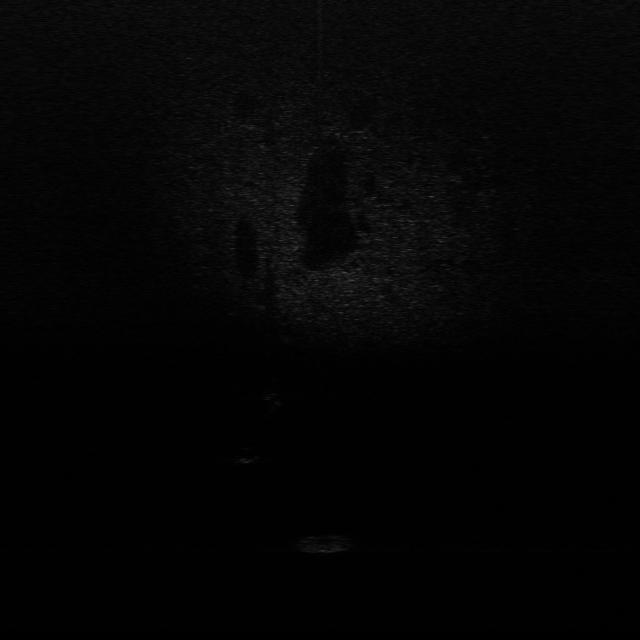ball: (233, 442, 267, 468)
circle cage: (292, 531, 359, 556)
human body: (262, 375, 284, 421)
